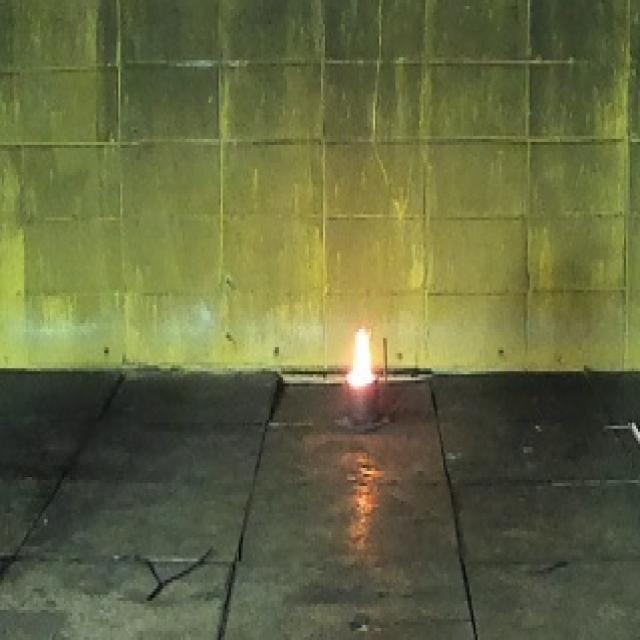Fire: (347, 324, 375, 386)
